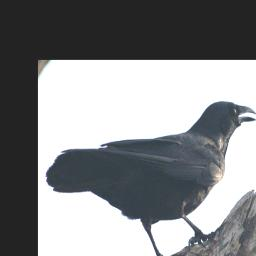Crow: (45, 99, 256, 256)
